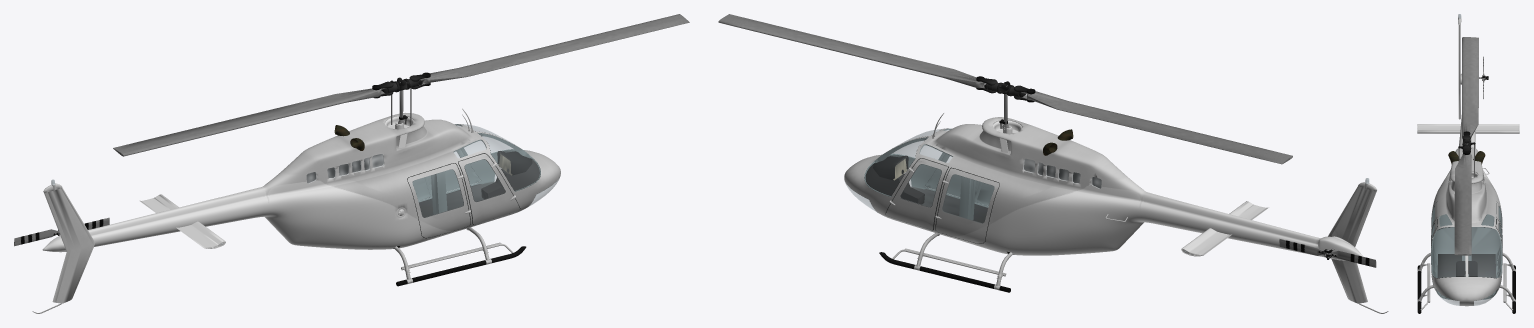
File: bell206.glb
3 renders of one model, left to right at view 1: azimuth 30°, elevation 25°; view 2: azimuth 150°, elevation 25°; view 3: azimuth 270°, elevation 25°, orthographic. The views are drawn at different scales.
Visible parts, largest first — view 1: body, mrblade, glass, interior, panel, skids, mrhub, trblade; view 2: body, mrblade, glass, interior, panel, skids, mrhub, trblade; view 3: body, glass, interior, mrblade, skids, panel, mrhub, detail.
Boxes of the visible parts, left/top/right/bottom form: body: left=42, top=113, right=560, bottom=303; mrblade: left=113, top=14, right=689, bottom=156; glass: left=51, top=124, right=559, bottom=244; interior: left=393, top=124, right=556, bottom=248; panel: left=481, top=151, right=539, bottom=199; skids: left=394, top=227, right=526, bottom=286; mrhub: left=372, top=72, right=430, bottom=125; trblade: left=14, top=217, right=109, bottom=246; body: left=844, top=117, right=1376, bottom=303; mrblade: left=718, top=14, right=1292, bottom=164; glass: left=845, top=128, right=1369, bottom=251; interior: left=850, top=128, right=1009, bottom=253; panel: left=865, top=155, right=924, bottom=204; skids: left=879, top=233, right=1012, bottom=292; mrhub: left=976, top=76, right=1035, bottom=133; trblade: left=1279, top=239, right=1376, bottom=267; body: left=1417, top=18, right=1519, bottom=306; glass: left=1417, top=14, right=1519, bottom=305; interior: left=1431, top=201, right=1502, bottom=300; mrblade: left=1454, top=37, right=1478, bottom=255; skids: left=1417, top=252, right=1515, bottom=313; panel: left=1456, top=261, right=1477, bottom=276; mrhub: left=1458, top=131, right=1475, bottom=177; detail: left=1448, top=151, right=1485, bottom=164.
Bounding box in the file's own units: 11.91 × 3.07 × 2.04.
10 materials, 9 textured.
